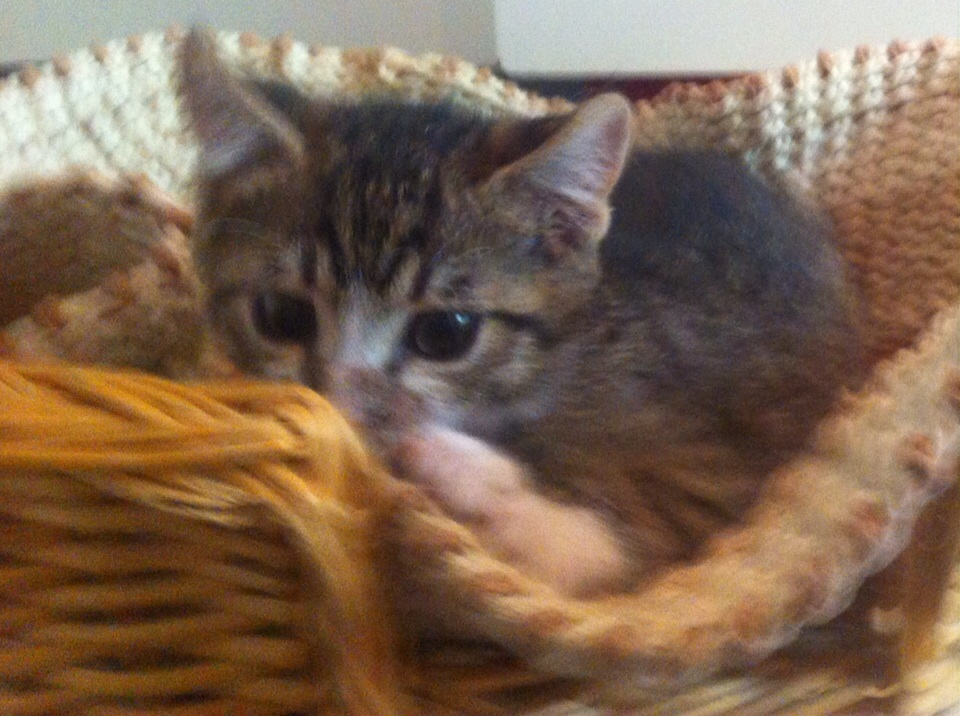cat: (154, 17, 873, 602)
